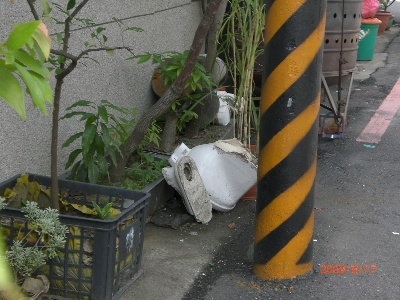bucket: (320, 1, 361, 150), (356, 17, 382, 61)
toilet: (161, 135, 260, 227)
